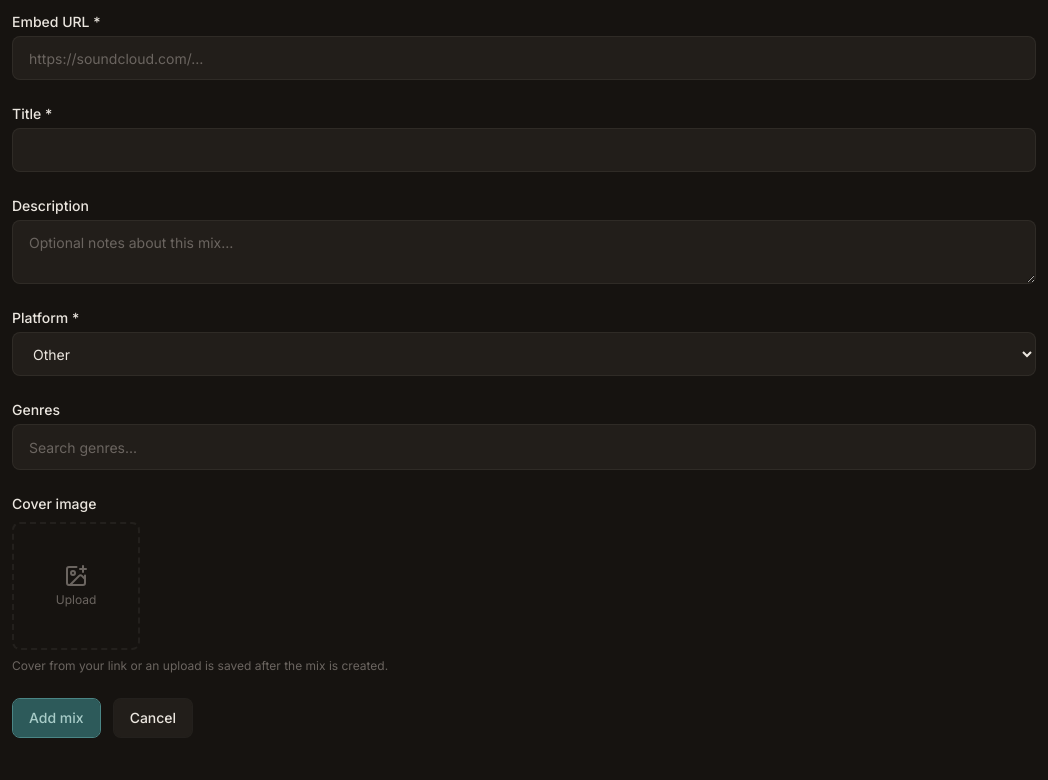
Scenario: MixForm › shows validation errors for empty title or embed URL
Step 1. Click the button "Add mix" → {"x": 56, "y": 718}, box 12,698 -> 101,738
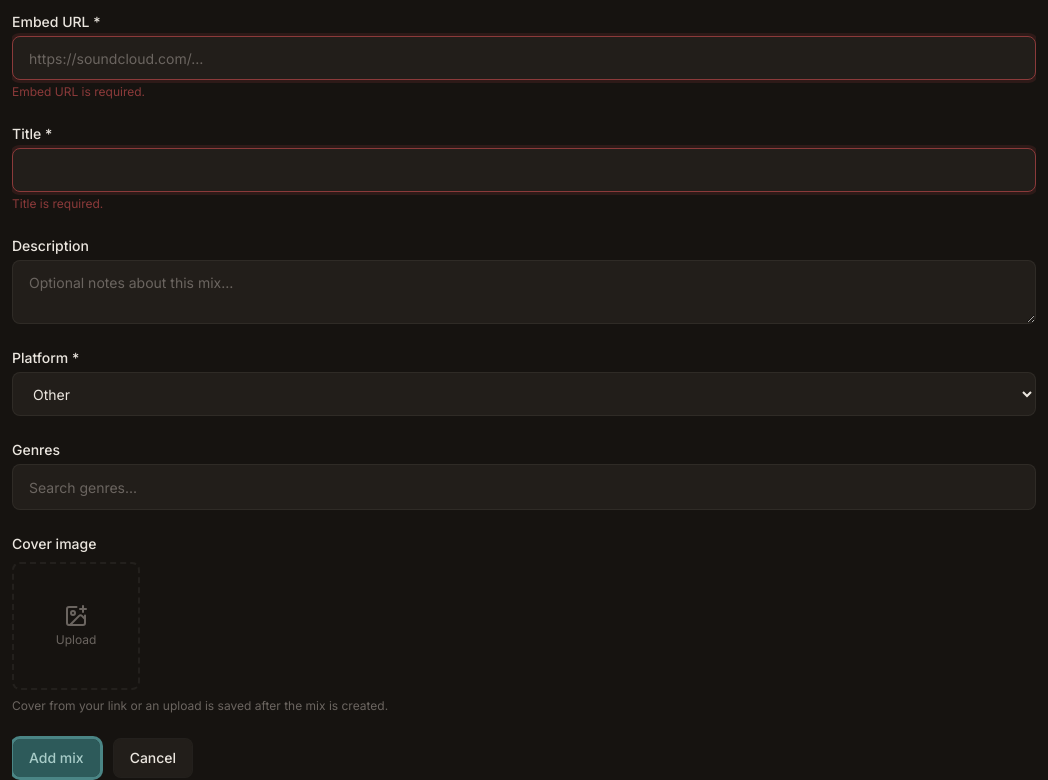
Expected: the text "Embed URL is required." is shown, 12,84 -> 145,99
Expected: the text "Title is required." is shown, 12,196 -> 103,211
